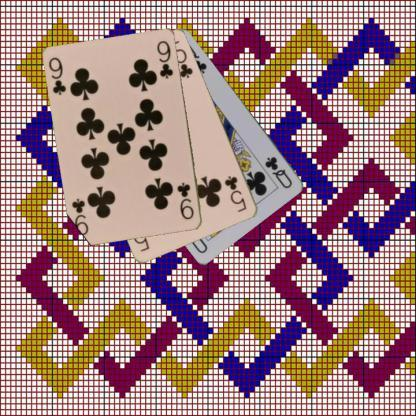5c: (222, 173, 248, 214)
9c: (174, 180, 196, 222), (47, 54, 68, 96)
Qc: (262, 154, 294, 190)
